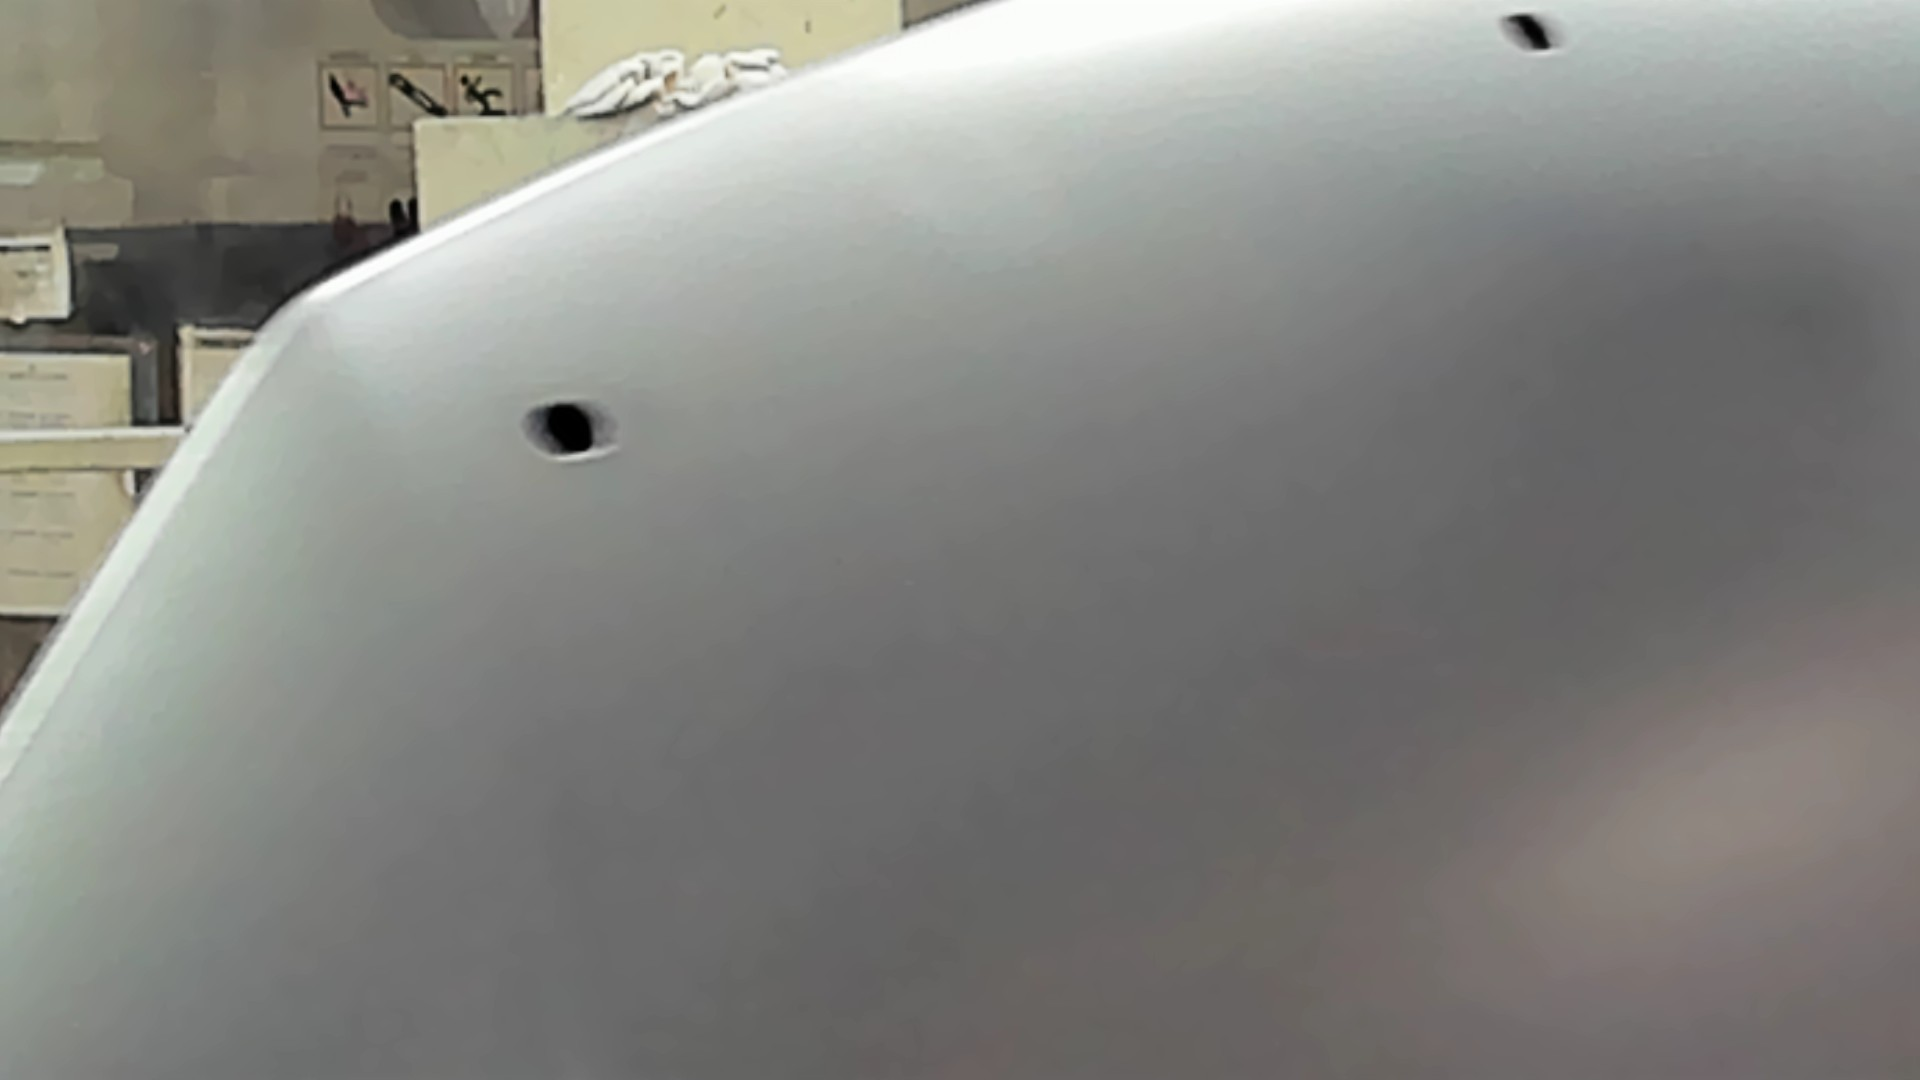amorfo: (514, 392, 626, 464), (1491, 4, 1569, 61)
